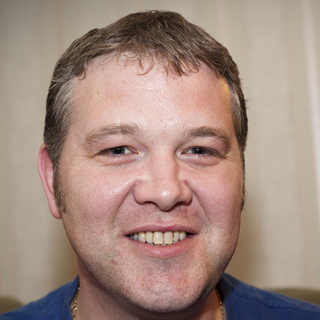eye: (94, 140, 143, 164), (176, 141, 224, 164)
